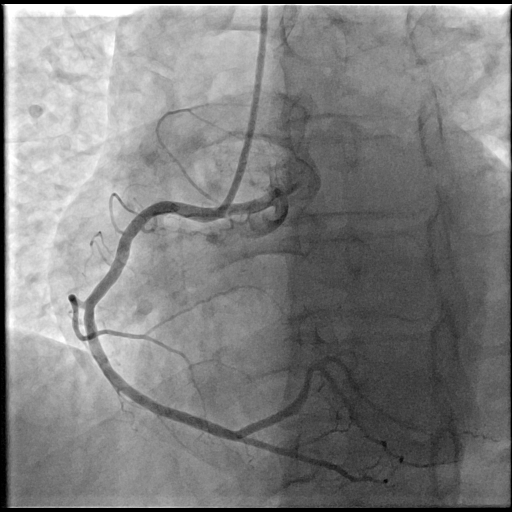RCA: (69, 201, 342, 471)
catherter: (218, 6, 267, 213)
